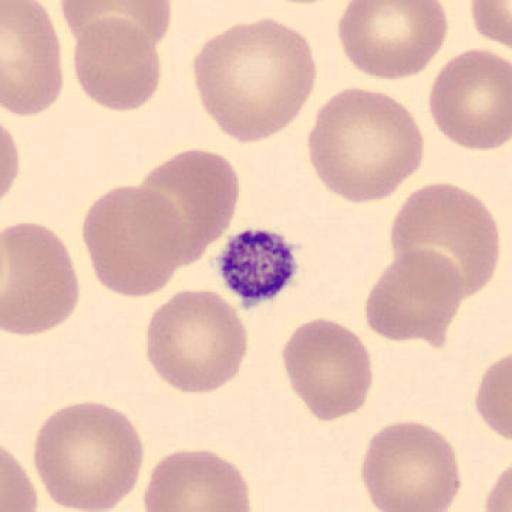Platelet: (216, 225, 304, 310)
RBC: (190, 16, 318, 146), (306, 86, 426, 206), (388, 181, 502, 299), (31, 399, 145, 512), (80, 184, 188, 300), (138, 148, 242, 268), (144, 287, 248, 396), (364, 246, 465, 348), (280, 316, 374, 422), (360, 419, 463, 512), (1, 220, 81, 337), (337, 0, 451, 82), (428, 46, 512, 153), (71, 15, 162, 113), (1, 0, 64, 117), (142, 447, 252, 512), (60, 0, 174, 51), (475, 349, 512, 445), (2, 444, 38, 512), (471, 0, 512, 49), (2, 447, 28, 512), (2, 124, 22, 202), (485, 461, 512, 512)
